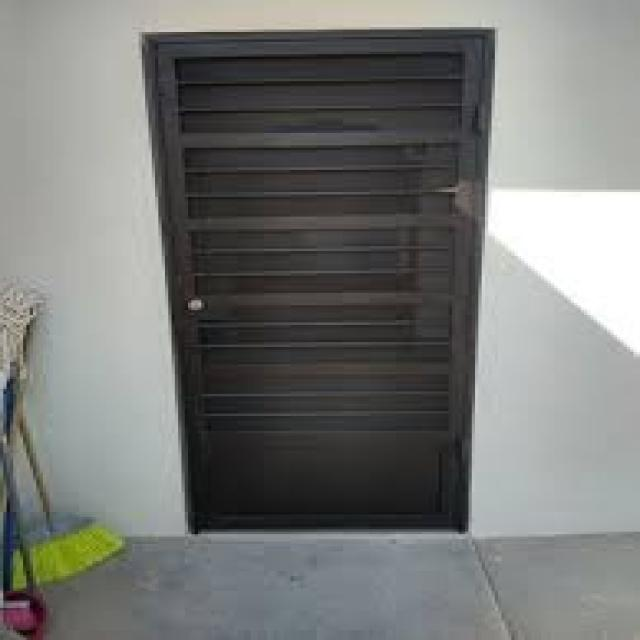door: (140, 27, 493, 534)
